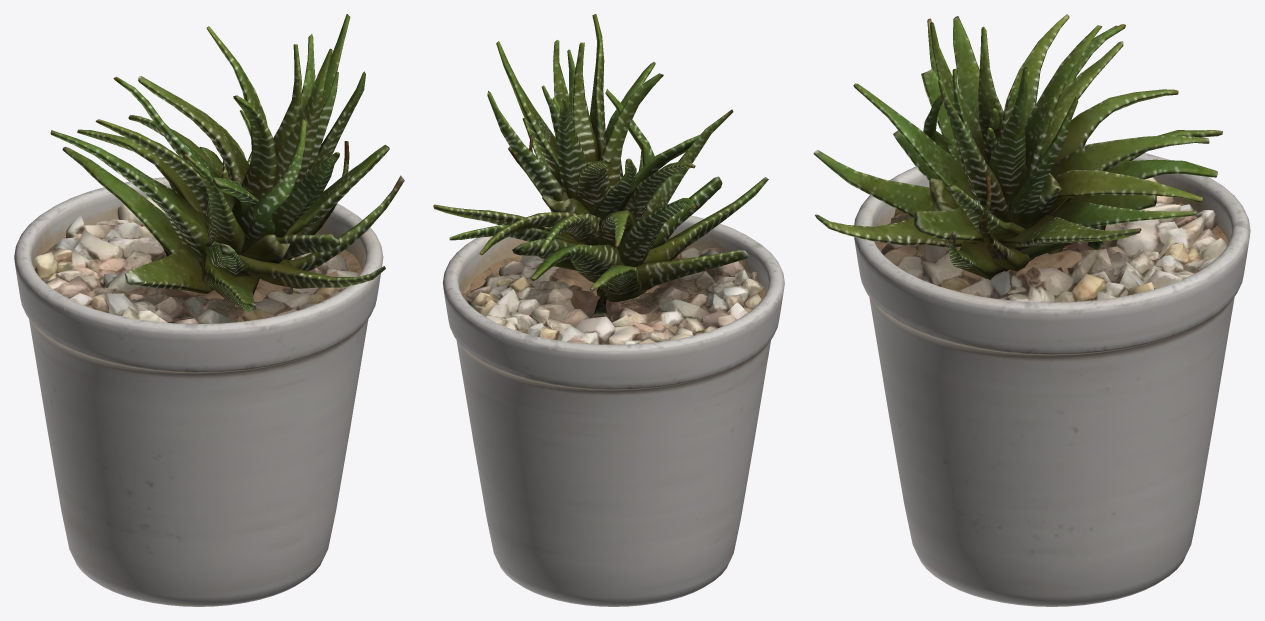
Rendered from ph-plant-small.glb.
3 renders of one model, left to right at view 1: azimuth 30°, elevation 25°; view 2: azimuth 150°, elevation 25°; view 3: azimuth 270°, elevation 25°, orthographic. The views are drawn at different scales.
Visible parts, largest first — view 1: potted_plant_04_pot, potted_plant_04_plant, potted_plant_04_ground, potted_plant_04_dirt; view 2: potted_plant_04_pot, potted_plant_04_plant, potted_plant_04_ground, potted_plant_04_dirt; view 3: potted_plant_04_pot, potted_plant_04_plant, potted_plant_04_ground, potted_plant_04_dirt.
Boxes of the visible parts, left/top/right/bottom form: potted_plant_04_pot: left=14, top=177, right=383, bottom=606; potted_plant_04_plant: left=50, top=14, right=404, bottom=311; potted_plant_04_ground: left=34, top=196, right=357, bottom=323; potted_plant_04_dirt: left=34, top=238, right=362, bottom=307; potted_plant_04_pot: left=442, top=215, right=784, bottom=606; potted_plant_04_plant: left=433, top=14, right=768, bottom=314; potted_plant_04_ground: left=463, top=247, right=765, bottom=344; potted_plant_04_dirt: left=462, top=247, right=765, bottom=306; potted_plant_04_pot: left=854, top=144, right=1250, bottom=606; potted_plant_04_plant: left=813, top=14, right=1222, bottom=279; potted_plant_04_ground: left=881, top=177, right=1227, bottom=302; potted_plant_04_dirt: left=875, top=200, right=1228, bottom=297.
Size of the model in its own units: 0.1679 by 0.2675 by 0.1848.
1 material, 1 textured.
